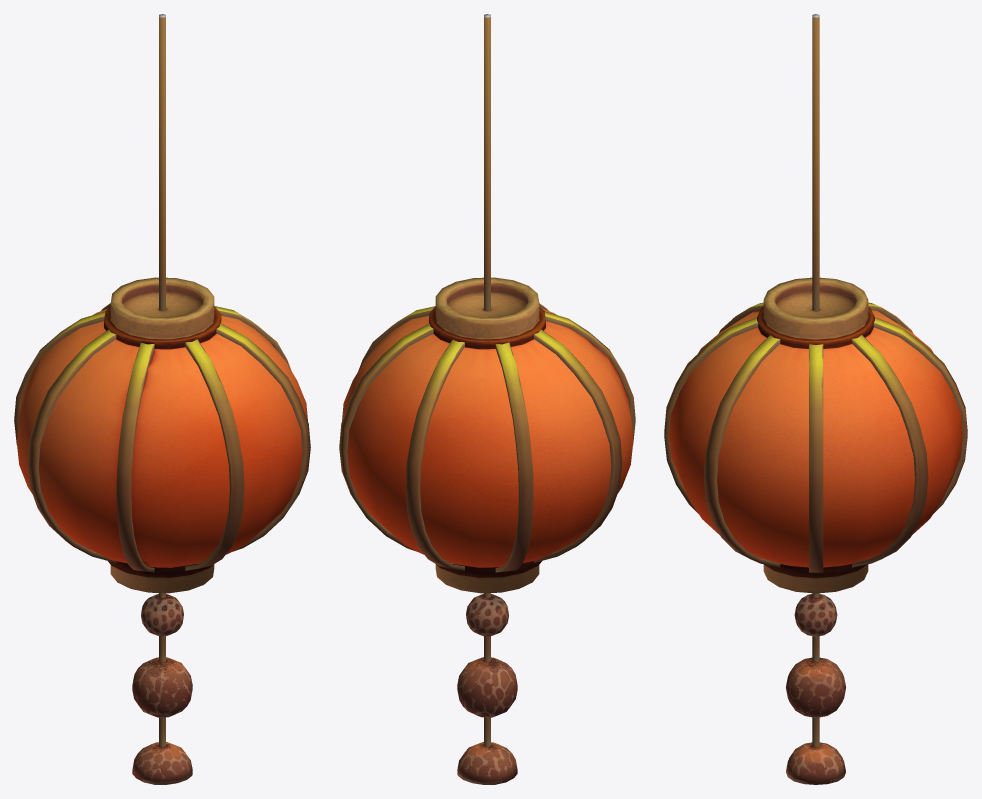
File: SM_Lantern_B.glb
3 renders of one model, left to right at view 1: azimuth 30°, elevation 25°; view 2: azimuth 150°, elevation 25°; view 3: azimuth 270°, elevation 25°, orthographic.
Parts seen in each view (by area): view 1: SM_Lantern_B_LOD0; view 2: SM_Lantern_B_LOD0; view 3: SM_Lantern_B_LOD0.
Boxes of the visible parts, bbox=[...] form: SM_Lantern_B_LOD0: bbox=[14, 14, 310, 784]; SM_Lantern_B_LOD0: bbox=[339, 14, 635, 784]; SM_Lantern_B_LOD0: bbox=[664, 14, 967, 784].
Size of the model in its own units: 0.4267 by 1.17 by 0.4267.
Materials: 1 (1 with a texture image).
